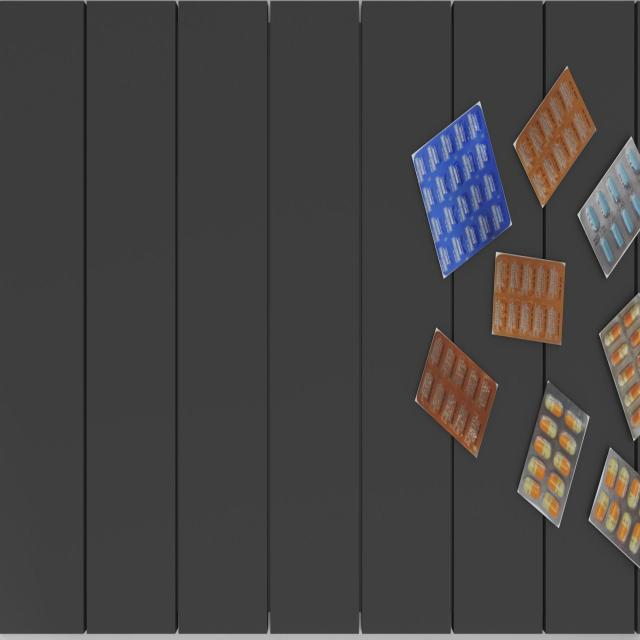blister: (407, 99, 514, 287), (405, 324, 500, 462), (509, 67, 598, 212), (509, 376, 592, 531), (578, 129, 639, 283), (485, 240, 567, 352), (580, 446, 640, 597), (593, 278, 640, 447)
